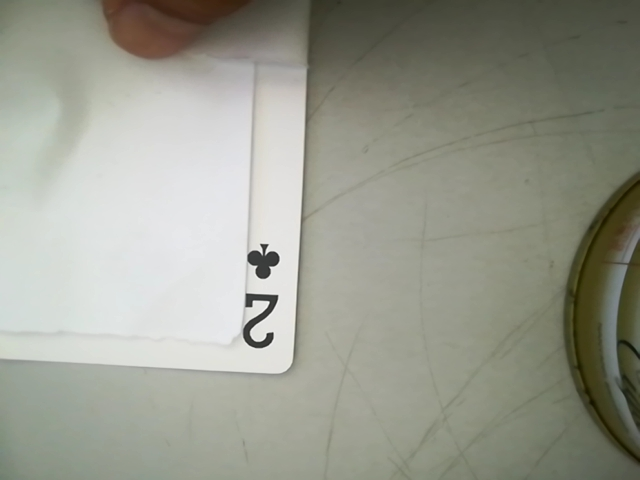mh 2: (222, 231, 298, 363)
